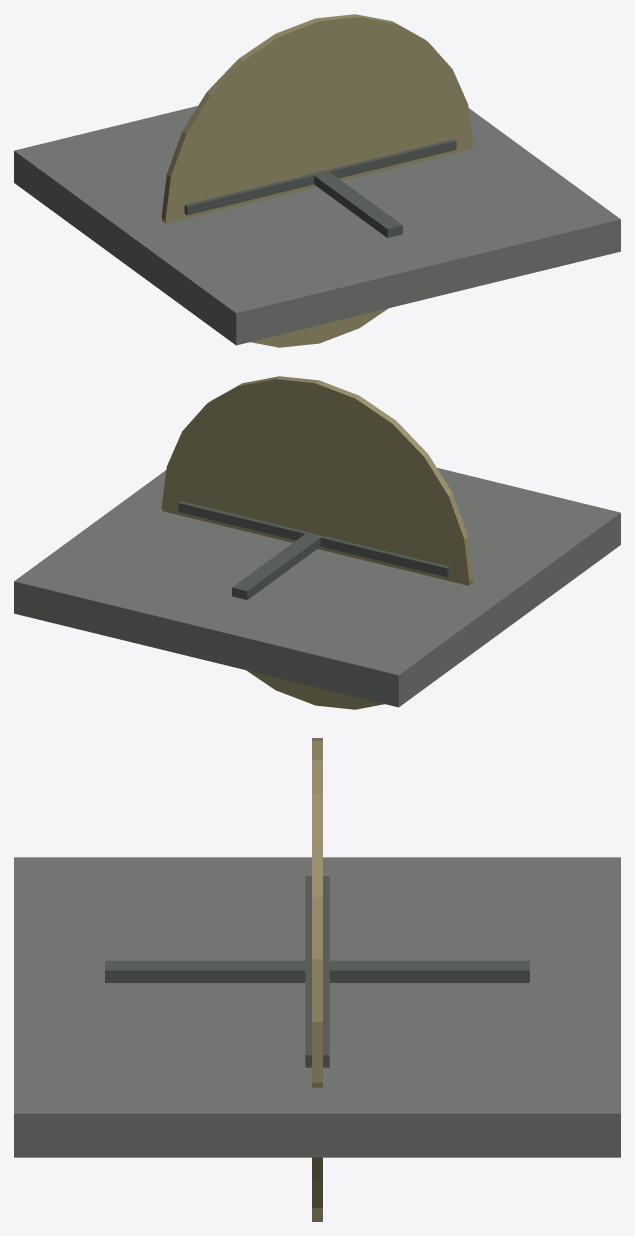
Rendered from helipad.glb.
3 renders of one model, top to bottom at view 1: azimuth 30°, elevation 25°; view 2: azimuth 150°, elevation 25°; view 3: azimuth 270°, elevation 25°, orthographic. The views are drawn at different scales.
Visible parts, largest first — view 1: p0, p1, p3, p2; view 2: p0, p1, p3, p2; view 3: p0, p2, p1, p3.
Part boxes in pixels (box(x1,y1,x2,y2)): p0: box(14, 106, 620, 345); p1: box(161, 14, 473, 347); p3: box(184, 139, 456, 215); p2: box(314, 170, 402, 237); p0: box(14, 468, 620, 707); p1: box(161, 376, 473, 709); p3: box(178, 501, 450, 577); p2: box(232, 532, 320, 599); p0: box(14, 857, 620, 1157); p2: box(105, 960, 529, 982); p1: box(312, 738, 322, 1221); p3: box(305, 876, 329, 1067).
Bounding box in the file's own units: 10 × 8 × 10.
